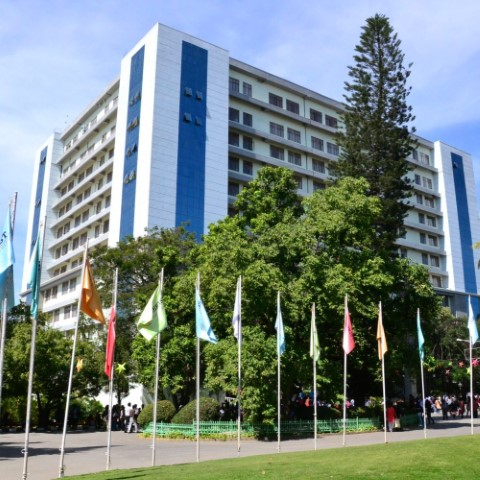Central Block: (32, 16, 480, 326)
